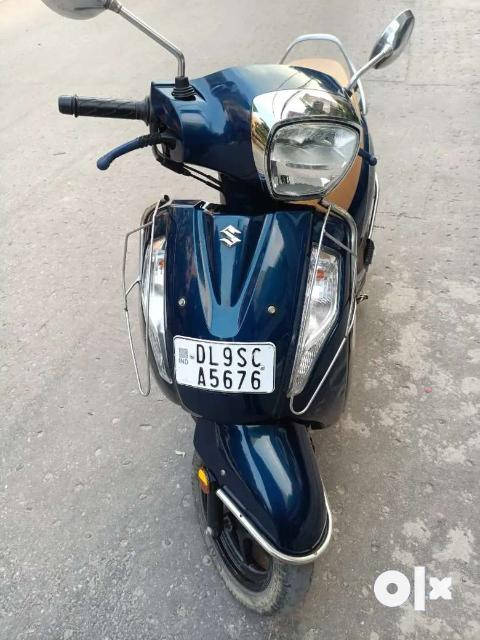Indian_Number_Plate: (175, 337, 274, 393)
